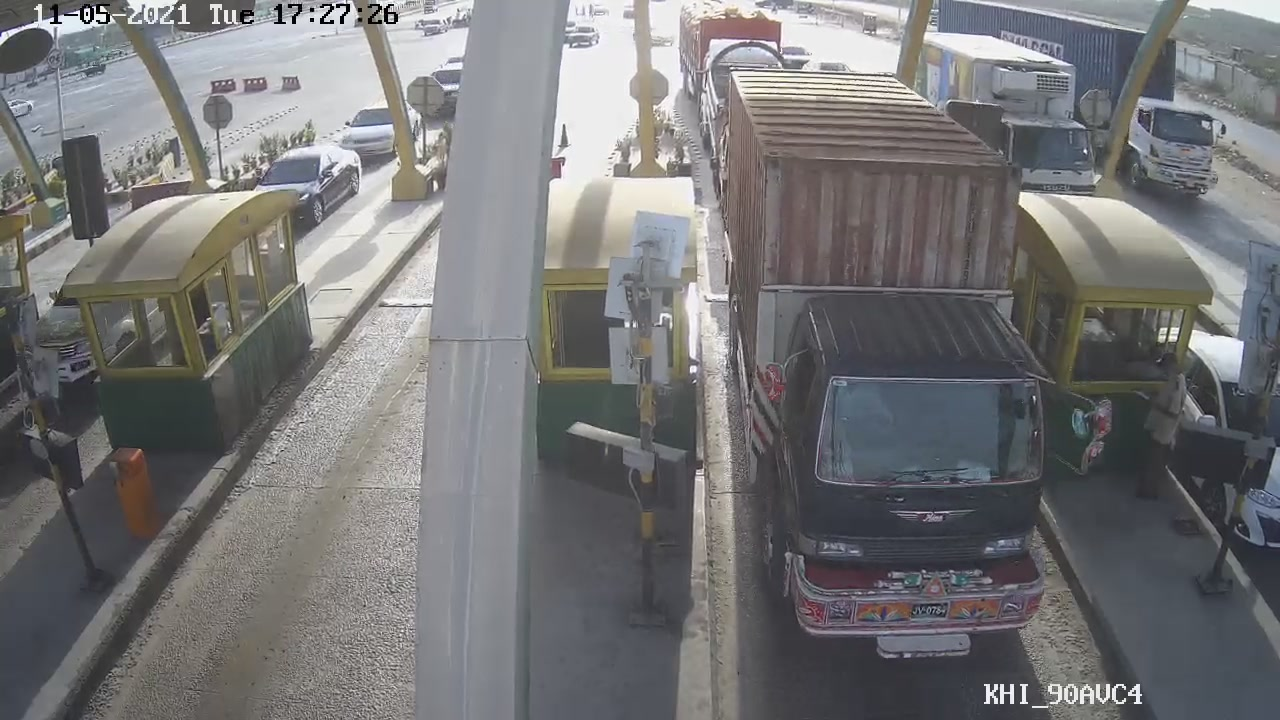F6: (713, 49, 1052, 676)
